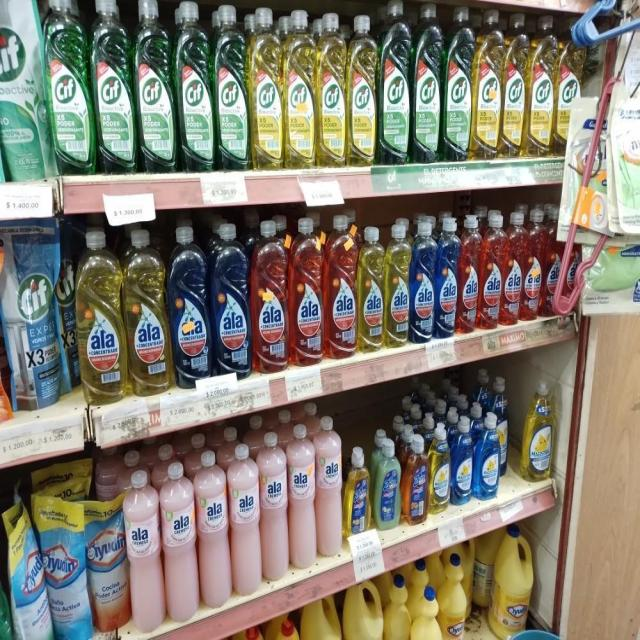ala_conc_amarillo: (76, 228, 124, 404), (126, 228, 170, 396), (358, 225, 384, 354), (385, 220, 410, 348)
ala_conc_azul: (171, 222, 210, 385), (212, 220, 251, 377), (411, 217, 435, 344), (436, 216, 458, 340)
ala_conc_rojo: (252, 217, 288, 374), (290, 216, 324, 366), (325, 214, 357, 359), (481, 211, 504, 330), (459, 214, 479, 335), (504, 211, 524, 326), (524, 209, 544, 322)
ala_crem_rosado: (127, 466, 161, 633), (162, 460, 196, 624), (197, 449, 229, 610), (229, 442, 259, 598), (260, 431, 288, 583), (288, 422, 316, 571), (316, 414, 343, 561)
cif_conc_bot_amarilla: (249, 5, 283, 172), (284, 7, 316, 170), (348, 11, 378, 168), (317, 8, 346, 169), (474, 9, 502, 162), (528, 14, 555, 158), (503, 11, 526, 160), (556, 30, 579, 158)
cif_conc_botella_verde: (46, 0, 92, 177), (92, 0, 134, 175), (135, 0, 174, 174), (176, 0, 212, 174), (214, 2, 248, 172), (379, 0, 411, 166), (413, 2, 442, 165), (444, 4, 472, 163)
magistral_con_amarillo: (521, 379, 555, 483), (429, 422, 450, 516)
magistral_con_azul: (475, 412, 500, 500), (452, 414, 474, 506)
zorro: (373, 438, 401, 531), (345, 446, 370, 537), (403, 432, 427, 526)
